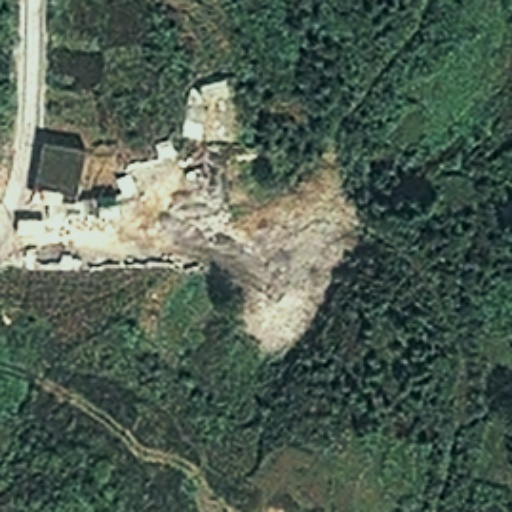landslide: (177, 150, 351, 358)
